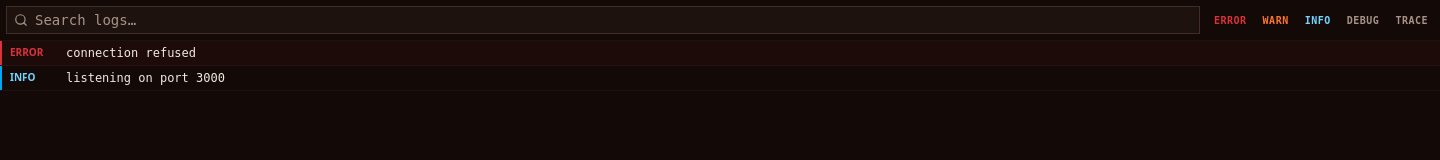
returns to every level when the solo'd chip is clicked again
Click the button "ERROR". click: (1230, 20)
box: [1208,10,1253,30]
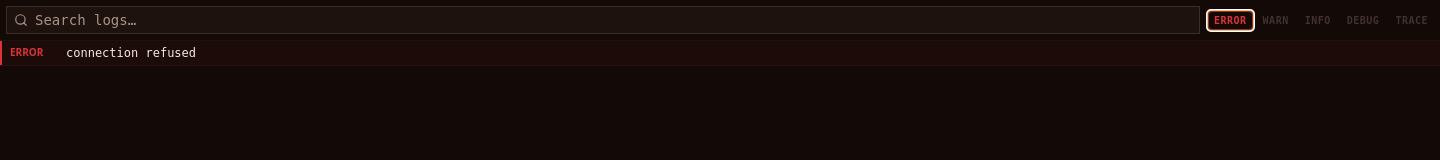
Click the button "ERROR". click: (1230, 20)
box: [1208,10,1253,30]
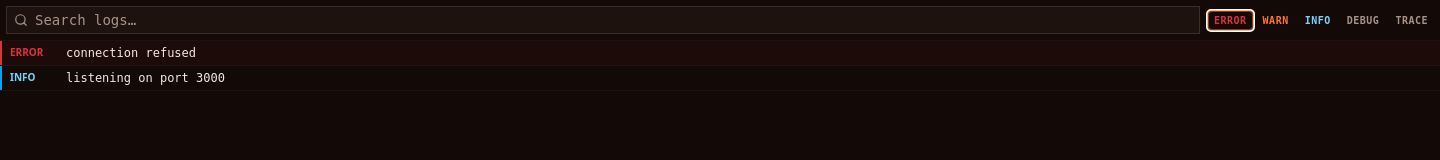
Check: the text "connection refused" is shown, box [66,46,196,60]
Check: the text "listening on port 3000" is shown, box [66,71,225,85]
